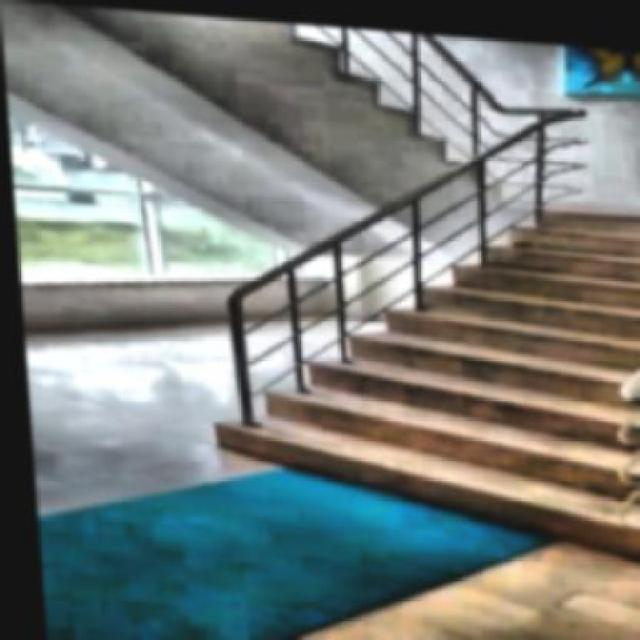stair: (151, 140, 638, 562)
